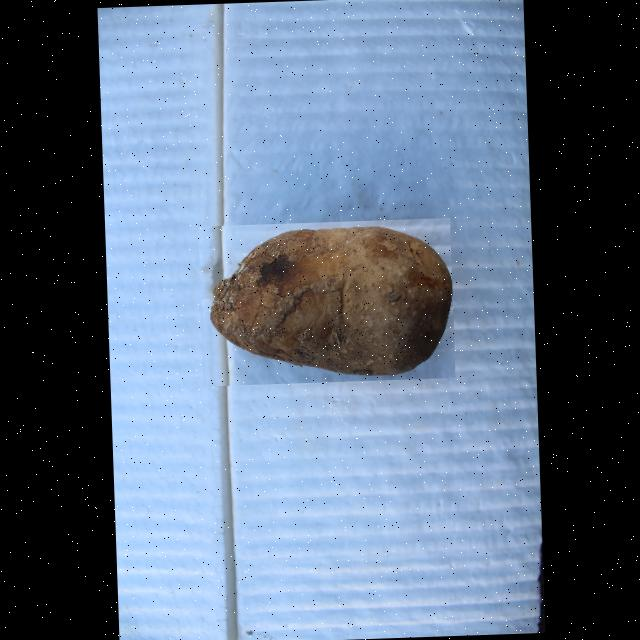Diseased-fungal potato: (197, 218, 454, 386)
